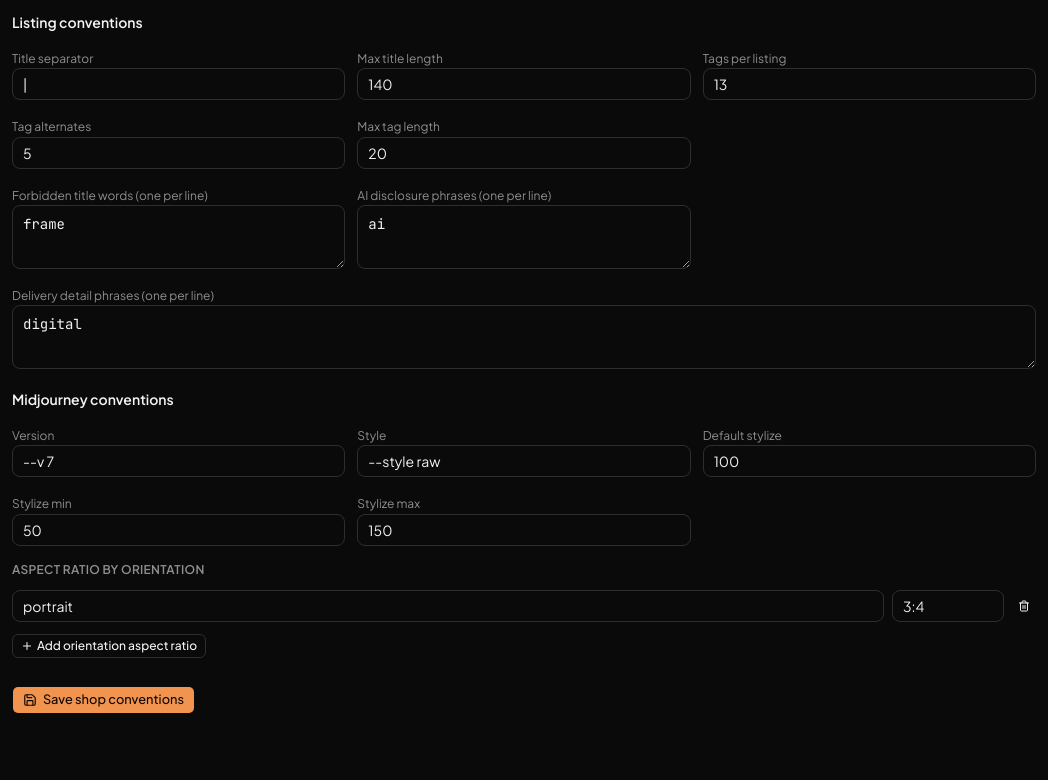
Test: ShopConventions › displays error inline when save fails
Expected: the field showing "|" is shown, [12,68,345,100]
Click the button "Save shop conventions". click: (104, 700)
box: [12,686,195,714]
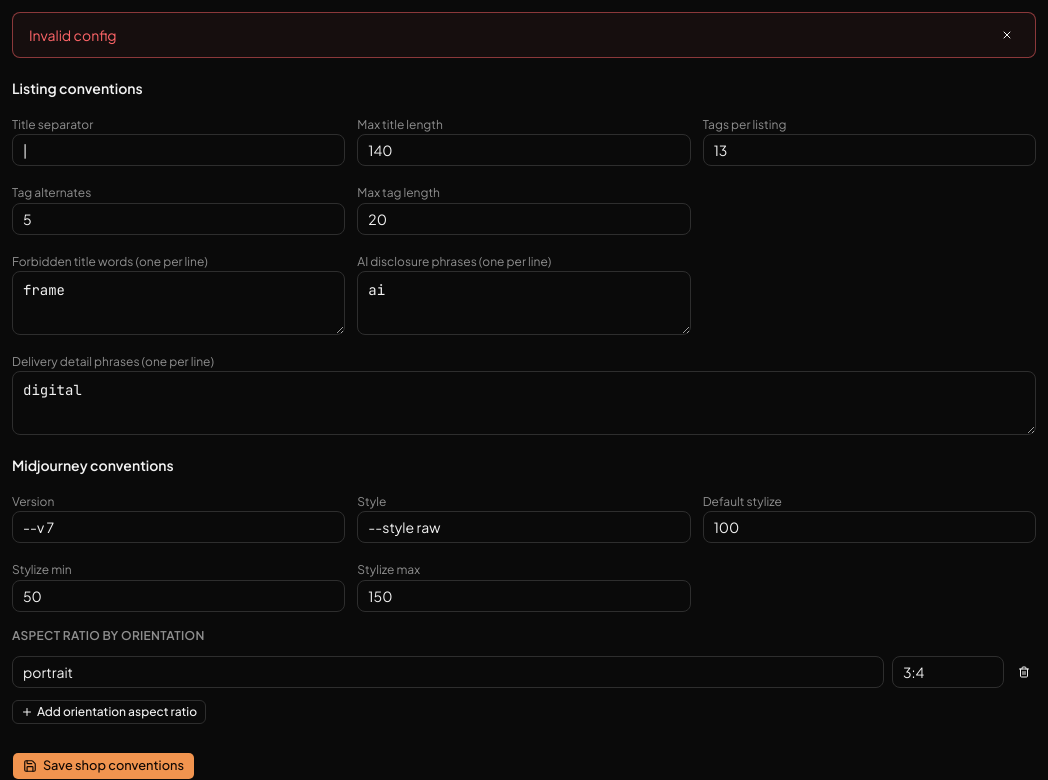
Result: the text "Invalid config" is shown at [29,25,117,45]
